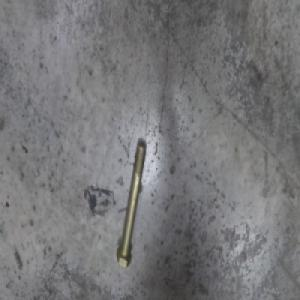Bolt: (116, 142, 150, 264)
